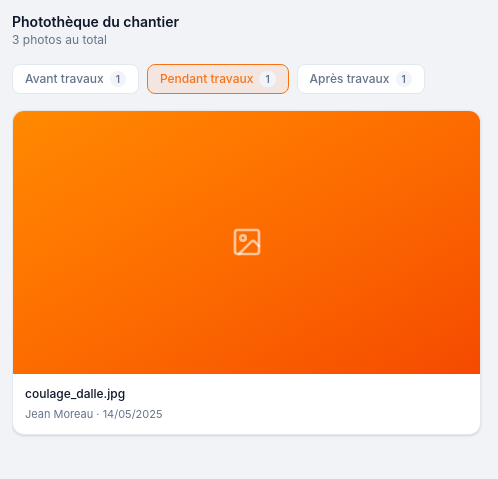
Test: PhotoGallery — Phase D › T-D-COMP-011 — filtre les photos par catégorie
Check: the text "coulage_dalle.jpg" is shown, box [25, 386, 125, 402]
Click the button "Avant travaux1" at (75, 79), box [12, 64, 139, 94]
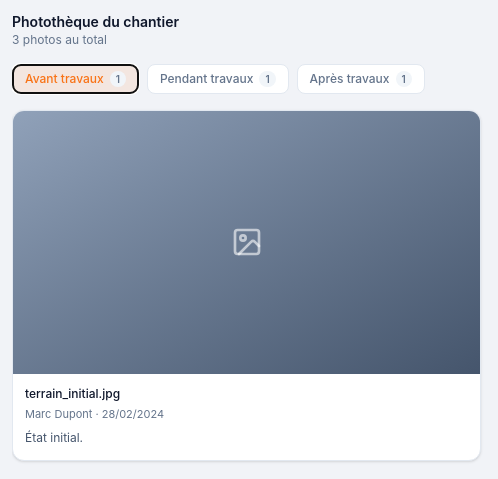
Check: the text "terrain_initial.jpg" is shown, box [25, 386, 120, 402]
Check: the text "coulage_dalle.jpg" is gone
Click the button "Après travaux1" at (361, 79), box [297, 64, 425, 94]
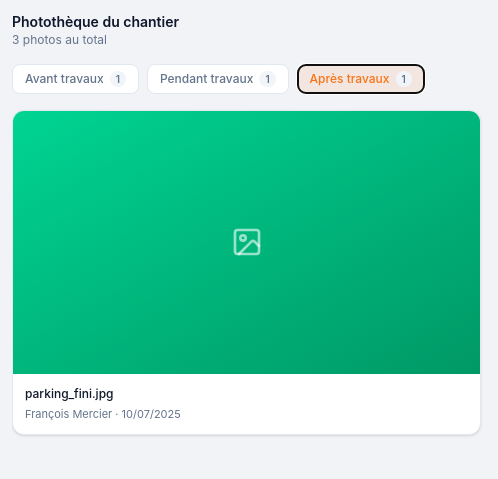
Check: the text "parking_fini.jpg" is shown, box [25, 386, 114, 402]
